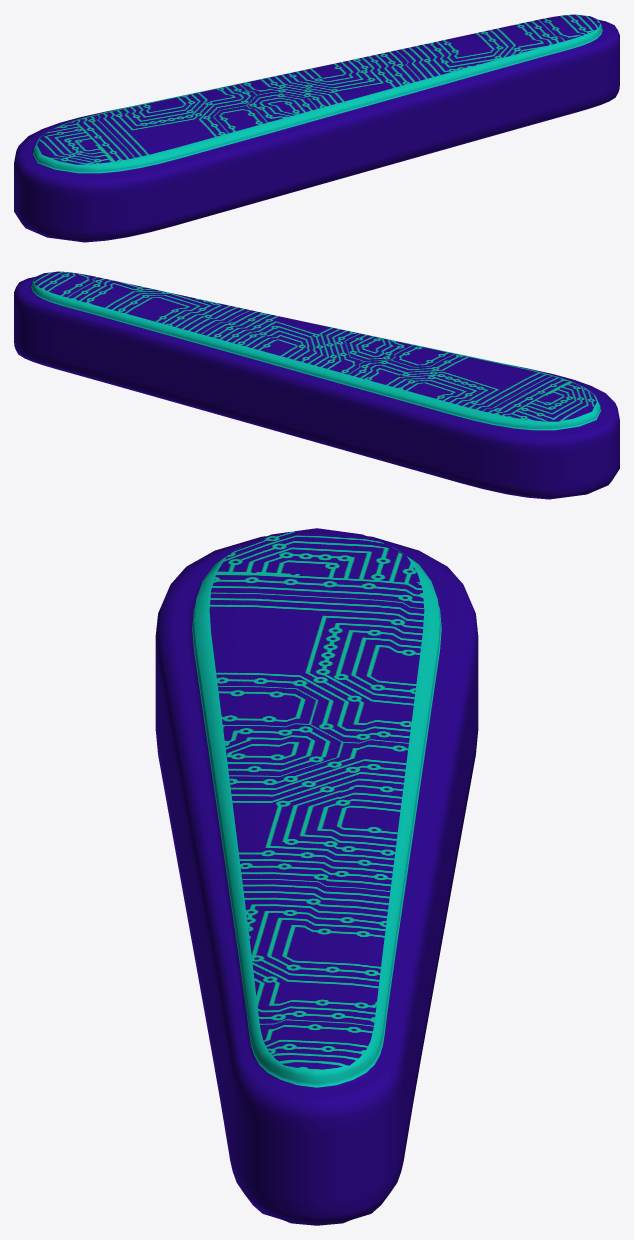
File: Flipper.obj
3 views of the same model, one above another, from view 1: azimuth 30°, elevation 25°; view 2: azimuth 150°, elevation 25°; view 3: azimuth 270°, elevation 25° (orthographic). The views are drawn at different scales.
Visible parts, largest first — view 1: pCube1; view 2: pCube1; view 3: pCube1.
Boxes of the visible parts, <box> form: pCube1: <box>14,14,619,242</box>; pCube1: <box>14,271,619,499</box>; pCube1: <box>155,528,478,1225</box>.
Size of the model in its own units: 0.9851 by 0.1145 by 0.2312.
1 material, 1 textured.
